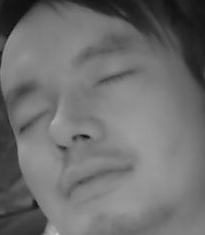blink: (18, 105, 55, 133), (94, 64, 133, 90)
mouth: (54, 156, 132, 206)
